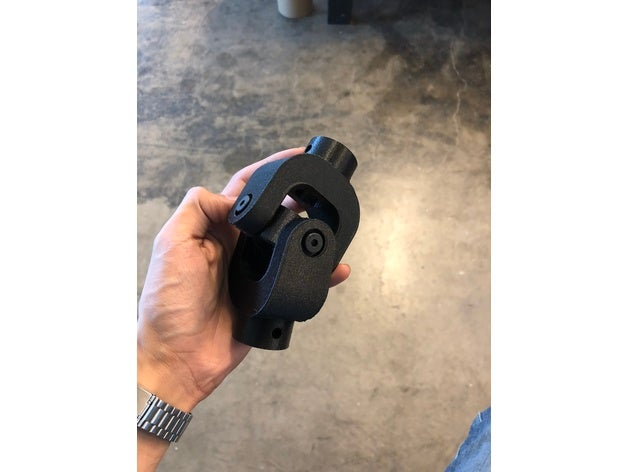Good: (218, 117, 376, 361)
